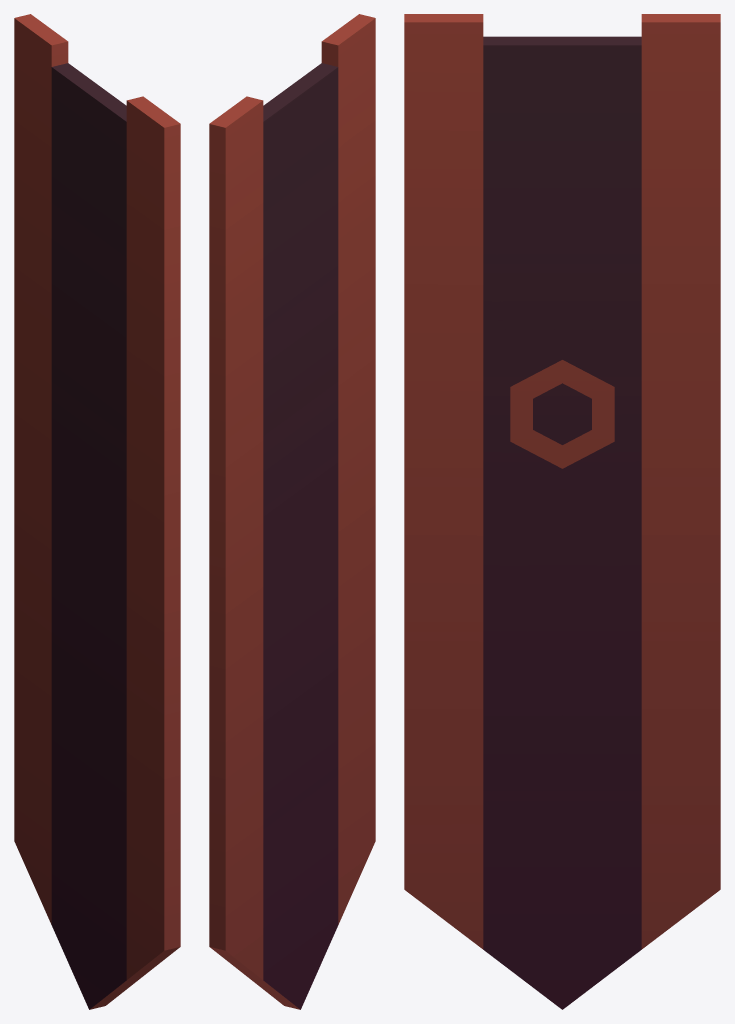
File: banniere.glb
3 views of the same model, side by side, from view 1: azimuth 30°, elevation 25°; view 2: azimuth 150°, elevation 25°; view 3: azimuth 270°, elevation 25° (orthographic). The views are drawn at different scales.
Parts seen in each view (by area): view 1: flag-banner-long; view 2: flag-banner-long; view 3: flag-banner-long.
Part boxes in pixels (x1=…): flag-banner-long: x1=14, y1=14, x2=180, y2=1009; flag-banner-long: x1=209, y1=14, x2=375, y2=1009; flag-banner-long: x1=404, y1=14, x2=720, y2=1009.
Bounding box in the file's own units: 0.0829 × 4.5 × 1.31.
Materials: 1 (1 with a texture image).
